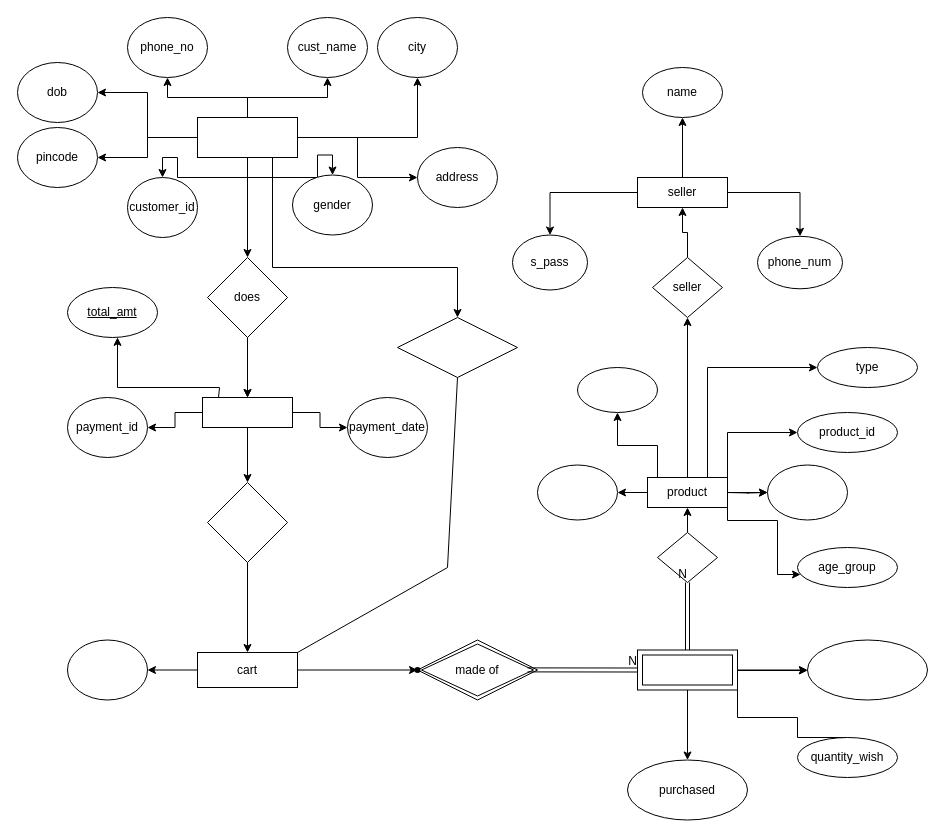
The diagram is 945 pixels wide and 838 high, and some of its shapes have lost their labels. The shapes that lost their labels are listed below. From the top down, each one's centre as x and y in pixels, then its label:
At (x=247, y=137): "Customer".
At (x=457, y=347): "has".
At (x=617, y=389): "cost".
At (x=247, y=412): "payment".
At (x=577, y=492): "quantity".
At (x=807, y=492): "size".
At (x=247, y=522): "done for".
At (x=687, y=557): "added_to".
At (x=107, y=669): "cart_id".
At (x=687, y=669): "cart_item".
At (x=867, y=669): "date_add".
